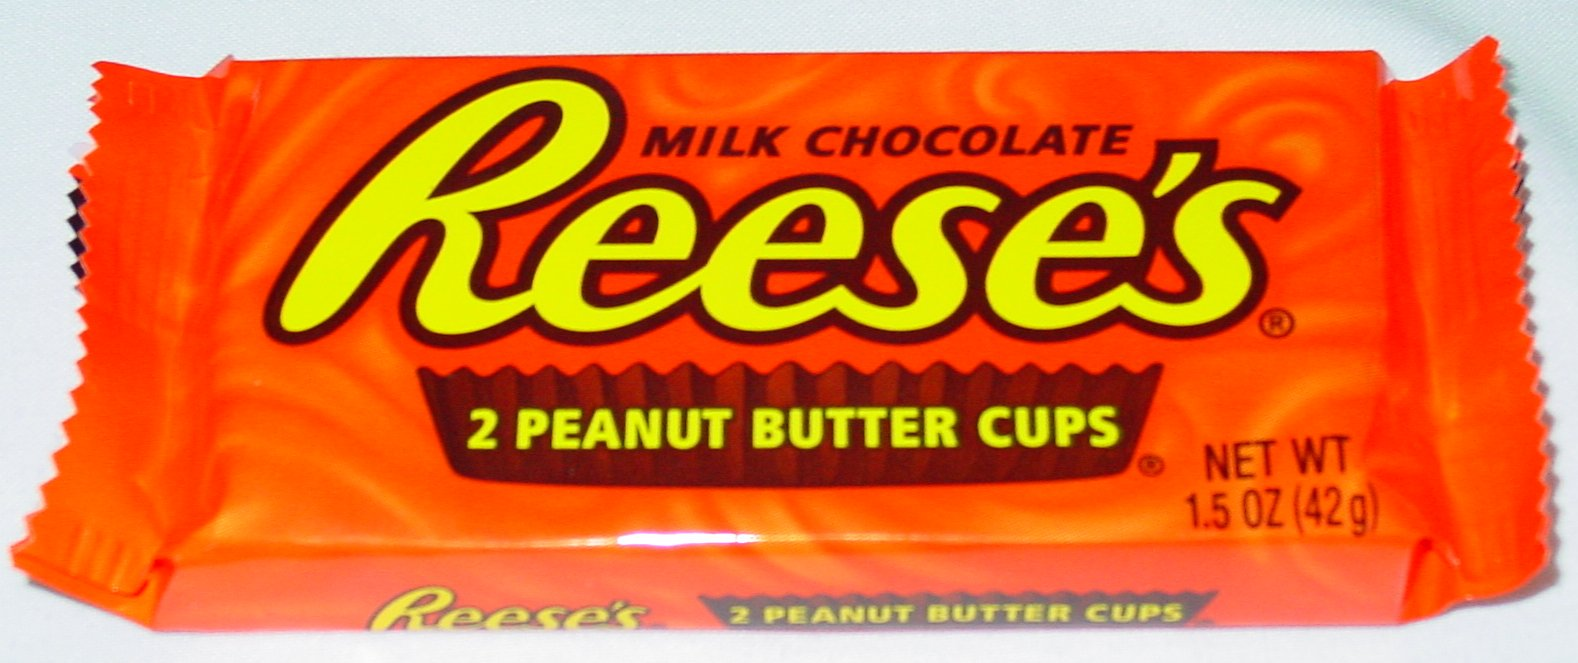reese: (33, 57, 1505, 640)
